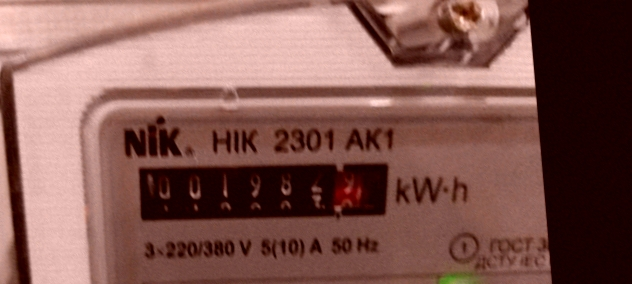0: (185, 172, 205, 202), (155, 172, 174, 202)
1: (217, 170, 232, 200)
2: (307, 165, 328, 195)
8: (277, 168, 296, 198)
9: (339, 168, 361, 198), (246, 170, 264, 200)
screen: (120, 132, 408, 252)
